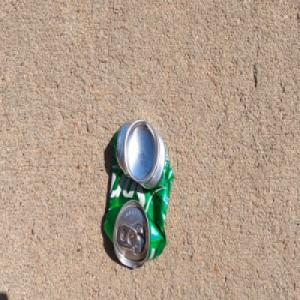SodaCan: (102, 117, 174, 270)
